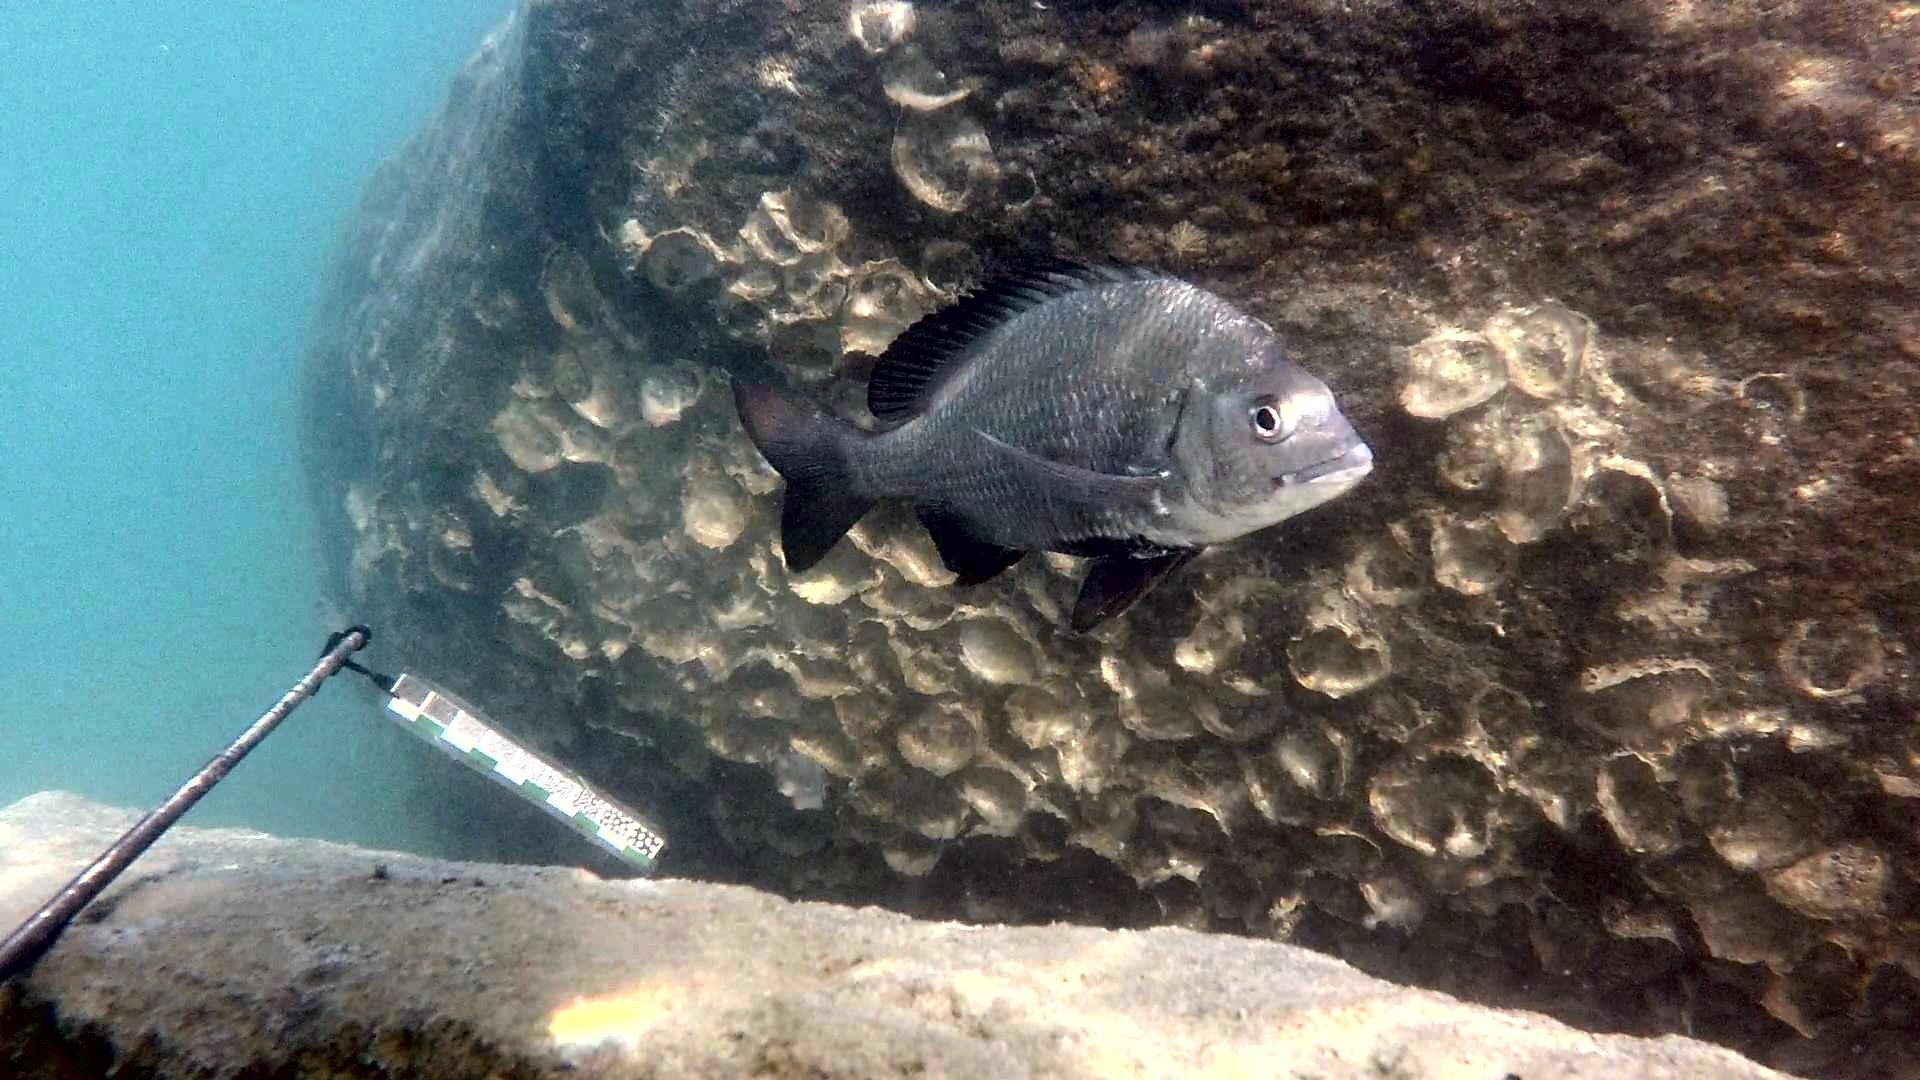acanthopagrus palmaris: (723, 243, 1382, 642)
